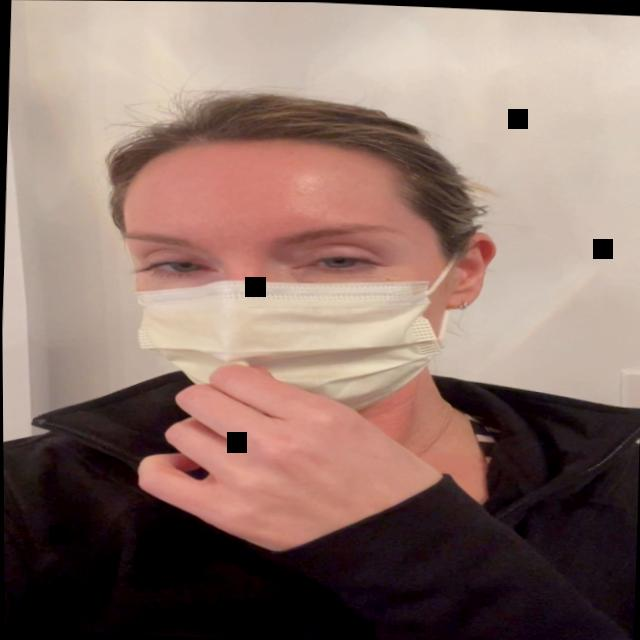Mask: (86, 111, 502, 415)
